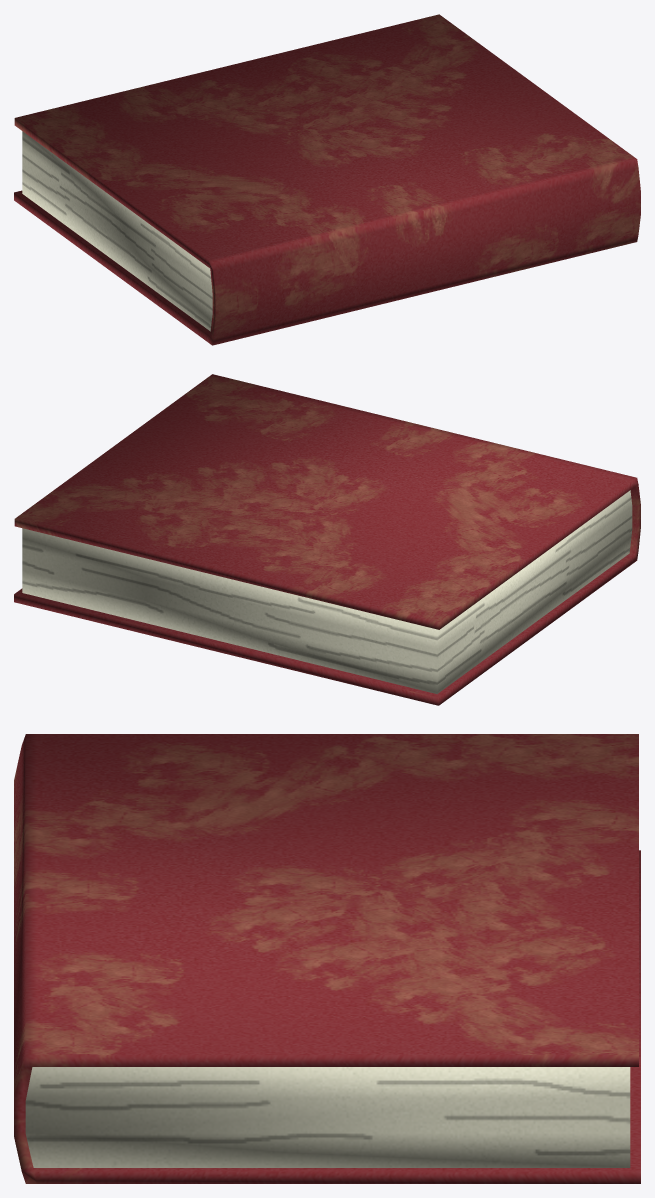
File: Libro.fbx
3 views of the same model, one above another, from view 1: azimuth 30°, elevation 25°; view 2: azimuth 150°, elevation 25°; view 3: azimuth 270°, elevation 25° (orthographic). The views are drawn at different scales.
Visible parts, largest first — view 1: Libro; view 2: Libro; view 3: Libro.
Part boxes in pixels (<box>): Libro: <box>14,14,640,345</box>; Libro: <box>14,374,640,705</box>; Libro: <box>14,734,640,1183</box>.
Bounding box in the file's own units: 257 × 47.84 × 212.
